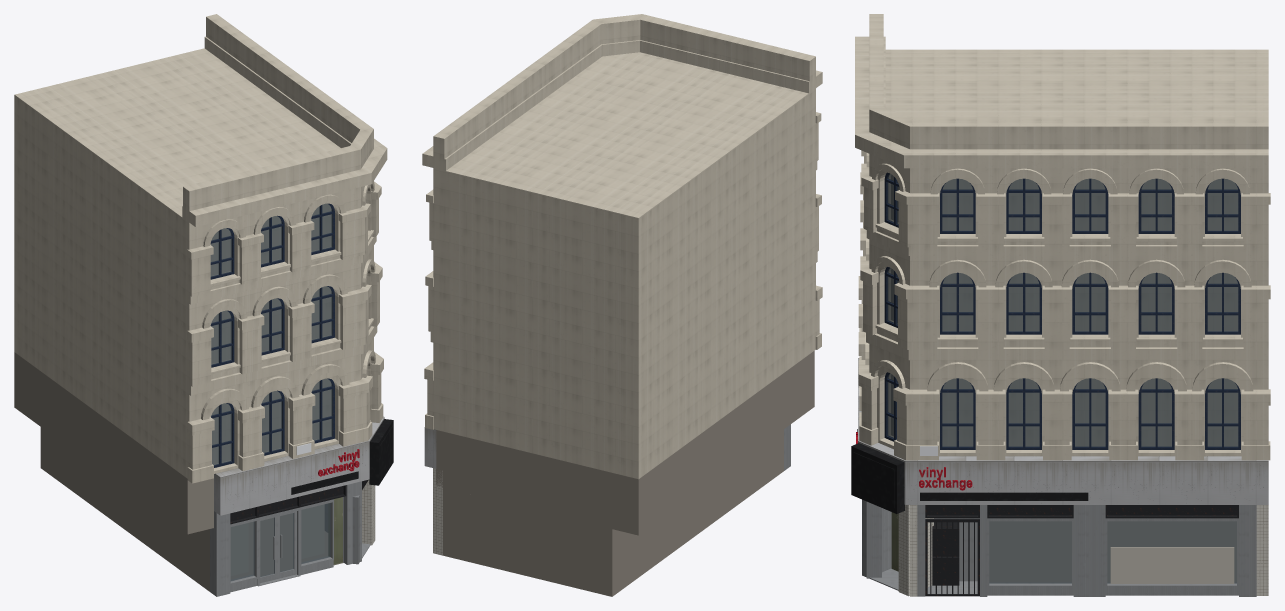
File: vinyl-exchange-blockout.glb
The picture shows the model from 3 angles, left to right: view 1: azimuth 30°, elevation 25°; view 2: azimuth 150°, elevation 25°; view 3: azimuth 270°, elevation 25°; orthographic projection. The views are drawn at different scales.
Visible parts, largest first — view 1: VE_BuildingShell_Upper, VE_Cornice_Parapet_INFERRED, VE_UpperFacade_Wall_Oldham, VE_BuildingShell_FasciaZone, VE_InteriorShell_SideAndRearWalls, VE_Fascia_Main, VE_Piers_Oldham_F1, VE_Piers_Oldham_F2, VE_StringCourses, VE_Piers_Oldham_F3, VE_Piers_CornerArris_F1, VE_RibbedPanel_Oldham (+41 smaller); view 2: VE_BuildingShell_Upper, VE_BuildingShell_FasciaZone, VE_InteriorShell_SideAndRearWalls, VE_Cornice_Parapet_INFERRED, VE_UpperFacade_Wall_Dale, VE_UpperFacade_Wall_Oldham, VE_Corner_TiledColumns, VE_Piers_Dale_F1; view 3: VE_BuildingShell_Upper, VE_UpperFacade_Wall_Dale, VE_Cornice_Parapet_INFERRED, VE_Fascia_Main, VE_Piers_Dale_F1, VE_StringCourses, VE_InteriorShell_Floor, VE_Piers_Dale_F2, VE_Piers_Dale_F3, VE_RibbedPanel_Dale, VE_Glass_DaleStreet_01, VE_SideWindowGraphicSurface (+51 smaller).
Boxes of the visible parts, x1,y1,x2,y2 form: VE_BuildingShell_Upper: [14, 48, 340, 474]; VE_Cornice_Parapet_INFERRED: [182, 14, 387, 226]; VE_UpperFacade_Wall_Oldham: [182, 187, 360, 478]; VE_BuildingShell_FasciaZone: [14, 352, 213, 534]; VE_InteriorShell_SideAndRearWalls: [40, 427, 209, 591]; VE_Fascia_Main: [214, 416, 384, 515]; VE_Piers_Oldham_F1: [187, 392, 315, 483]; VE_Piers_Oldham_F2: [187, 301, 314, 386]; VE_StringCourses: [188, 236, 377, 395]; VE_Piers_Oldham_F3: [187, 220, 314, 296]; VE_Piers_CornerArris_F1: [338, 352, 383, 446]; VE_RibbedPanel_Oldham: [210, 481, 361, 596]; VE_BuildingShell_Upper: [446, 52, 808, 479]; VE_BuildingShell_FasciaZone: [436, 351, 814, 535]; VE_InteriorShell_SideAndRearWalls: [443, 429, 783, 596]; VE_Cornice_Parapet_INFERRED: [422, 14, 822, 170]; VE_UpperFacade_Wall_Dale: [433, 168, 445, 432]; VE_UpperFacade_Wall_Oldham: [809, 88, 815, 354]; VE_Corner_TiledColumns: [433, 468, 442, 555]; VE_Piers_Dale_F1: [424, 362, 433, 429]; VE_BuildingShell_Upper: [885, 49, 1268, 445]; VE_UpperFacade_Wall_Dale: [910, 168, 1268, 456]; VE_Cornice_Parapet_INFERRED: [855, 14, 1268, 168]; VE_Fascia_Main: [858, 358, 1268, 504]; VE_Piers_Dale_F1: [976, 389, 1270, 460]; VE_StringCourses: [866, 230, 1268, 360]; VE_InteriorShell_Floor: [989, 521, 1236, 581]; VE_Piers_Dale_F2: [976, 285, 1270, 349]; VE_Piers_Dale_F3: [976, 193, 1270, 247]; VE_RibbedPanel_Dale: [980, 505, 1256, 596]; VE_Glass_DaleStreet_01: [989, 521, 1071, 583]; VE_SideWindowGraphicSurface: [1110, 547, 1234, 583].
Bounding box in the file's own units: 8.01 × 14.55 × 11.71.
14 materials, 10 textured.
